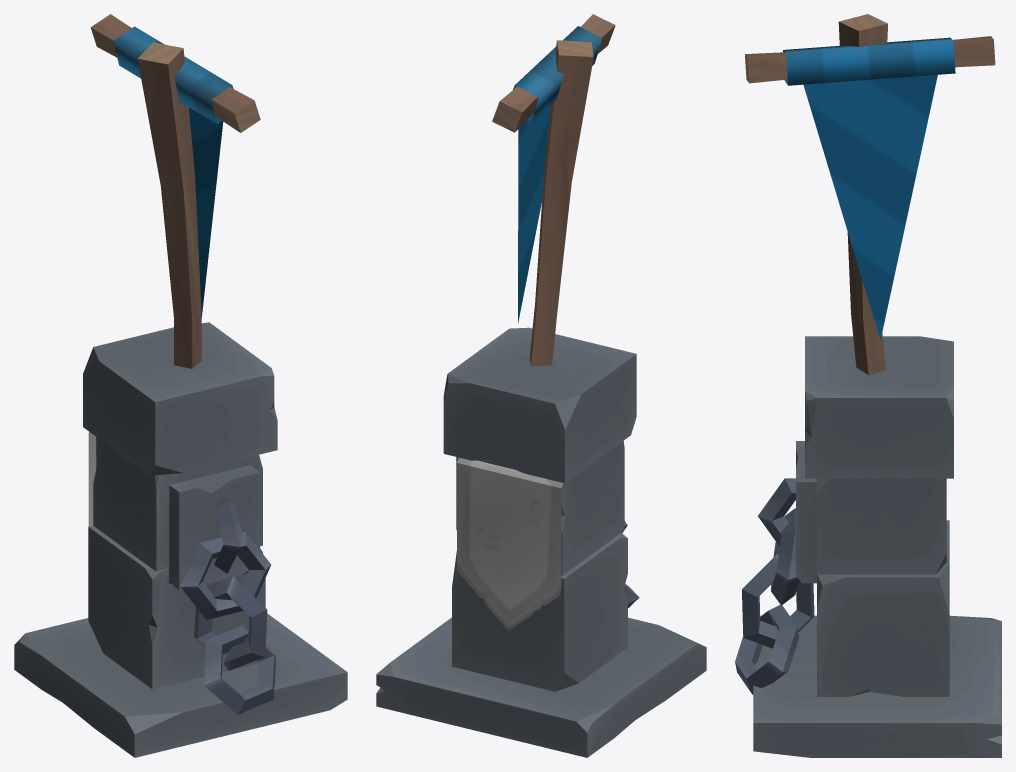
The model's file is Pillar1B-002_02_19_7776.fbx.
3 views of the same model, side by side, from view 1: azimuth 30°, elevation 25°; view 2: azimuth 150°, elevation 25°; view 3: azimuth 270°, elevation 25° (orthographic). The views are drawn at different scales.
Parts seen in each view (by area): view 1: 1B_Pillar, Wood1.002 (1), Flag5.001 (1), ChainLink (1), ClothTop1 (1), ChainLink (3), ChainLink (2), WoodTop (1), ChainLink, Plane_001 (4); view 2: 1B_Pillar, Plane_001 (4), Wood1.002 (1), Flag5.001 (1), ClothTop1 (1), WoodTop (1); view 3: 1B_Pillar, Flag5.001 (1), ClothTop1 (1), Wood1.002 (1), ChainLink (3), ChainLink (2), WoodTop (1), ChainLink (1), ChainLink.
Part boxes in pixels (<box>): 1B_Pillar: <box>14,322,347,757</box>; Wood1.002 (1): <box>137,42,201,368</box>; Flag5.001 (1): <box>189,107,223,317</box>; ChainLink (1): <box>180,532,271,619</box>; ClothTop1 (1): <box>113,26,233,123</box>; ChainLink (3): <box>204,625,275,714</box>; ChainLink (2): <box>194,576,267,670</box>; WoodTop (1): <box>90,14,260,132</box>; ChainLink: <box>212,497,243,573</box>; Plane_001 (4): <box>88,432,96,526</box>; 1B_Pillar: <box>376,327,706,757</box>; Plane_001 (4): <box>457,457,563,630</box>; Wood1.002 (1): <box>529,40,593,365</box>; Flag5.001 (1): <box>518,105,550,323</box>; ClothTop1 (1): <box>513,26,602,122</box>; WoodTop (1): <box>492,14,615,132</box>; 1B_Pillar: <box>753,336,1001,757</box>; Flag5.001 (1): <box>803,75,937,339</box>; ClothTop1 (1): <box>783,37,955,85</box>; Wood1.002 (1): <box>838,14,887,375</box>; ChainLink (3): <box>735,604,798,694</box>; ChainLink (2): <box>742,554,814,648</box>; WoodTop (1): <box>745,36,995,83</box>; ChainLink (1): <box>771,508,798,605</box>; ChainLink: <box>758,478,795,546</box>.
Size of the model in its own units: 1.88 by 5.48 by 1.98.
